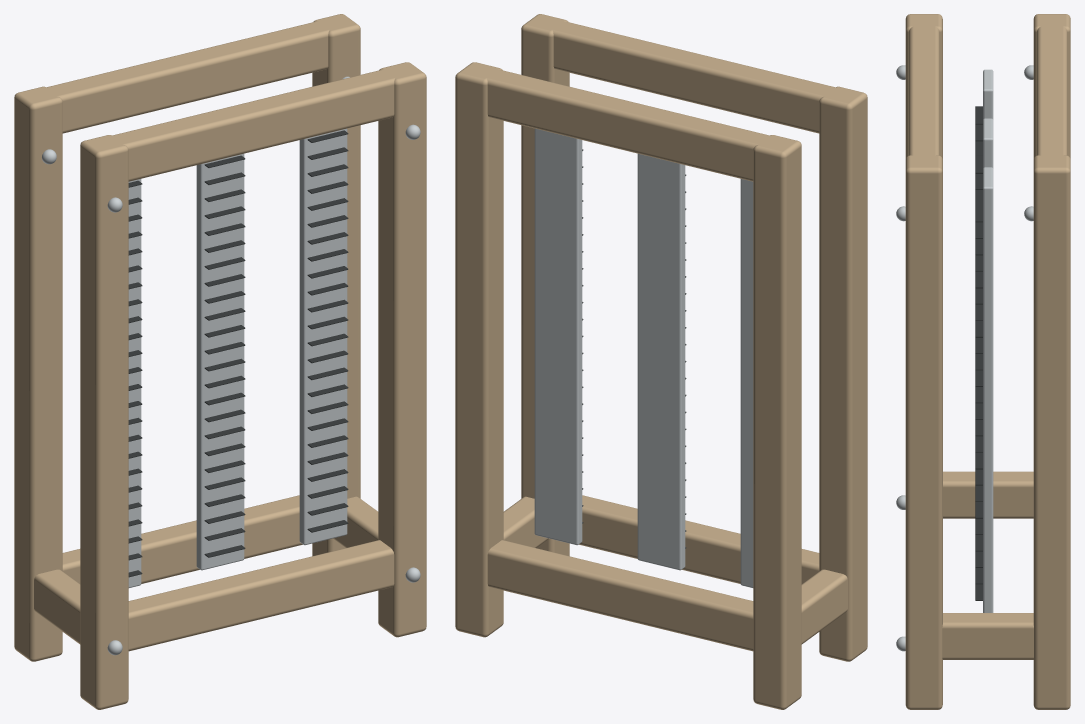
File: textile-weaving-and-dye-workshop-reed-rack-c903d866__29537.glb
3 views of the same model, side by side, from view 1: azimuth 30°, elevation 25°; view 2: azimuth 150°, elevation 25°; view 3: azimuth 270°, elevation 25° (orthographic). The views are drawn at different scales.
Visible parts, largest first — view 1: reed-rack; view 2: reed-rack; view 3: reed-rack.
Boxes of the visible parts, <box> form: reed-rack: <box>14,14,426,709</box>; reed-rack: <box>455,14,867,709</box>; reed-rack: <box>896,14,1070,709</box>.
Bounding box in the file's own units: 0.9 × 1.45 × 0.423.
